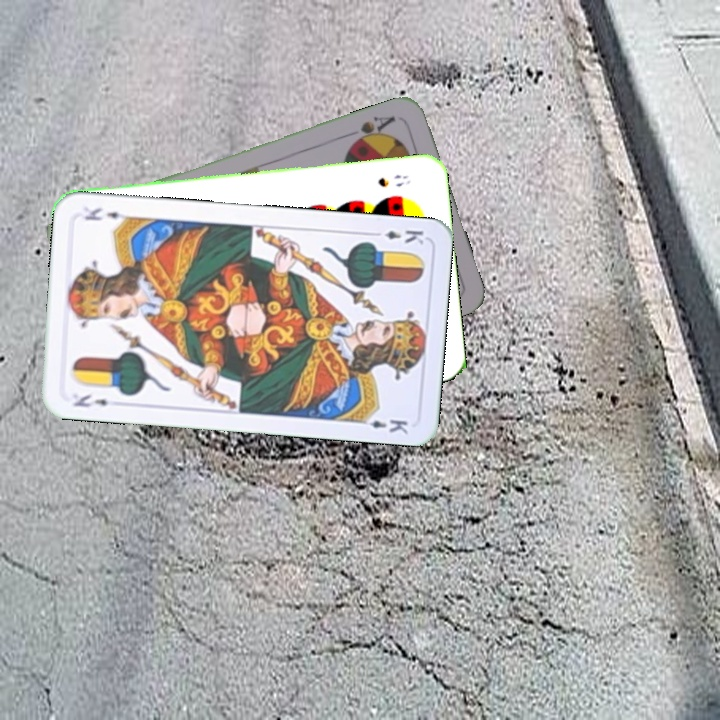EK: (367, 225, 426, 248), (69, 390, 111, 410)
S8: (374, 170, 413, 190)
SA: (347, 111, 399, 148)
